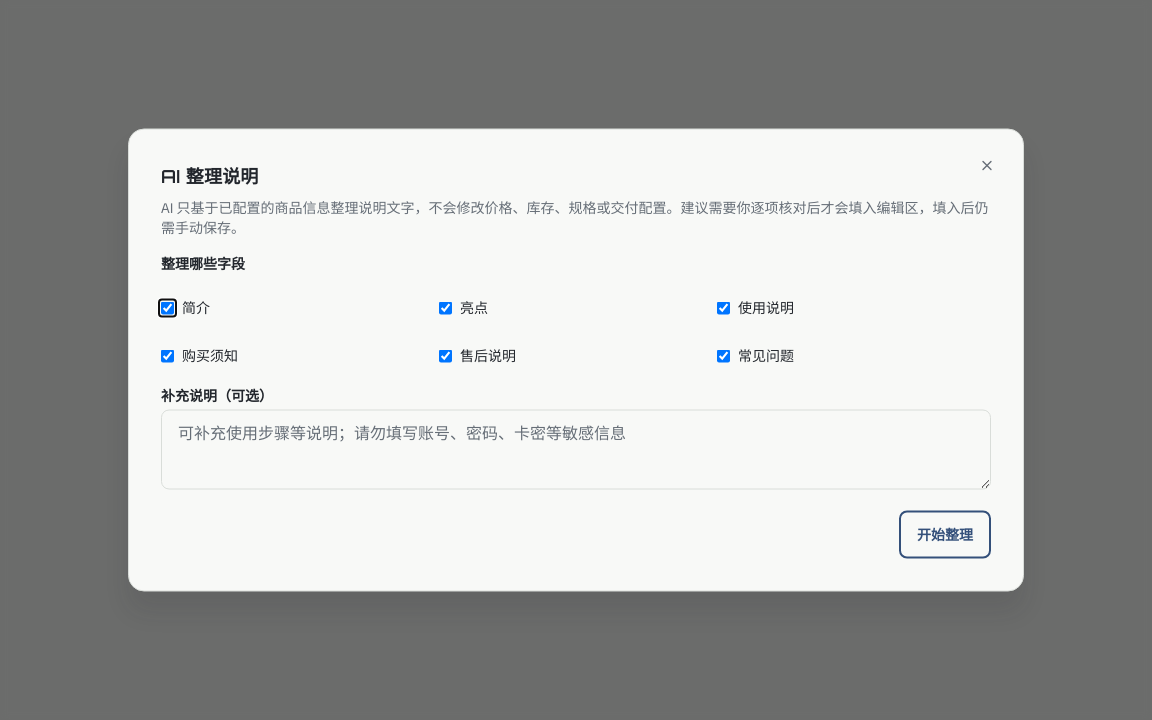
Test: ProductContentSuggestionDialog (SPEC-AI-PRODUCT-001 §8) › starts unchecked, blocks rejected fields and renders AI text as plain text
This screenshot has width=1152, height=720.
Step 1. Click the button with test id "content-suggestion-generate" → (945, 534), box [899, 510, 991, 558]
(page scrolled)
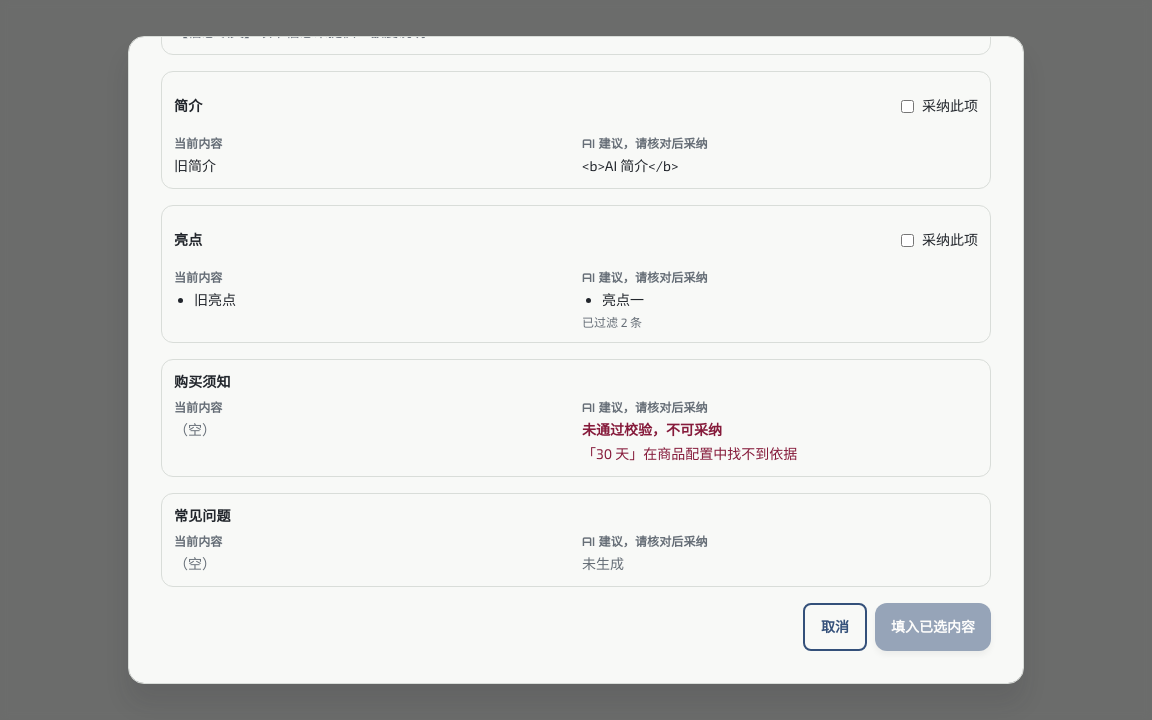
Expected: the element with test id "content-suggestion-result" is shown
Expected: the checkbox with test id "content-suggestion-select-description" is not checked, [901, 100, 914, 112]
Expected: the element with test id "content-suggestion-field-purchaseNotes" shows "「30 天」在商品配置中找不到依据", [582, 445, 797, 462]
